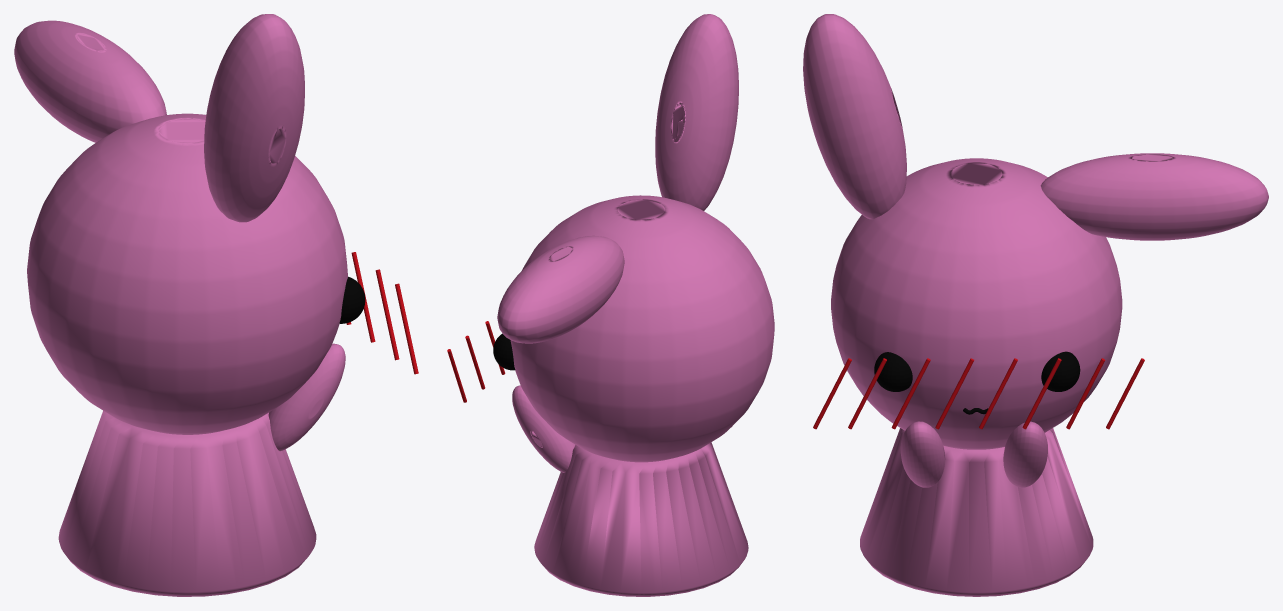
File: tavsikucgen.obj
The picture shows the model from 3 angles, left to right: view 1: azimuth 30°, elevation 25°; view 2: azimuth 150°, elevation 25°; view 3: azimuth 270°, elevation 25°; orthographic projection. The views are drawn at different scales.
Visible parts, largest first — view 1: Sphere, Cylinder, Sphere.002, Sphere.001, Sphere.003, Sphere.005; view 2: Sphere, Cylinder, Sphere.002, Sphere.001, Sphere.004, Sphere.006; view 3: Sphere, Cylinder, Sphere.001, Sphere.002, Sphere.003, Sphere.004, Sphere.005, Sphere.006.
Boxes of the visible parts, left/top/right/bottom form: Sphere: left=27, top=113, right=347, bottom=434; Cylinder: left=58, top=410, right=316, bottom=596; Sphere.002: left=204, top=14, right=304, bottom=222; Sphere.001: left=14, top=20, right=166, bottom=142; Sphere.003: left=268, top=343, right=345, bottom=451; Sphere.005: left=339, top=276, right=365, bottom=323; Sphere: left=510, top=195, right=774, bottom=462; Cylinder: left=534, top=442, right=748, bottom=596; Sphere.002: left=655, top=14, right=738, bottom=210; Sphere.001: left=497, top=235, right=624, bottom=343; Sphere.004: left=512, top=385, right=575, bottom=472; Sphere.006: left=493, top=333, right=515, bottom=370; Sphere: left=831, top=158, right=1122, bottom=449; Cylinder: left=860, top=428, right=1093, bottom=596; Sphere.001: left=1040, top=153, right=1268, bottom=240; Sphere.002: left=803, top=14, right=906, bottom=219; Sphere.003: left=900, top=421, right=945, bottom=487; Sphere.004: left=1003, top=421, right=1047, bottom=487; Sphere.005: left=874, top=352, right=912, bottom=391; Sphere.006: left=1041, top=351, right=1080, bottom=391.
Bounding box in the file's own units: 1.41 × 2.82 × 2.23.
